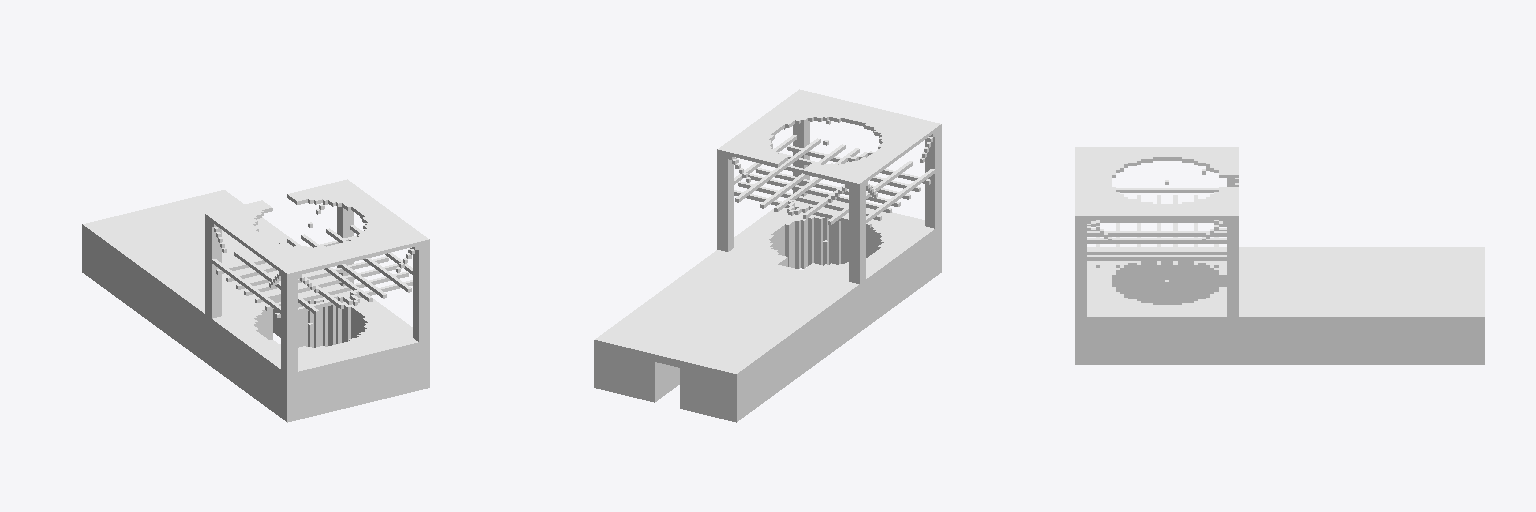
The model's file is AxesCube40x40x40.obj.
3 views of the same model, side by side, from view 1: azimuth 30°, elevation 25°; view 2: azimuth 150°, elevation 25°; view 3: azimuth 270°, elevation 25° (orthographic).
Size of the model in its own units: 40 by 40 by 100.